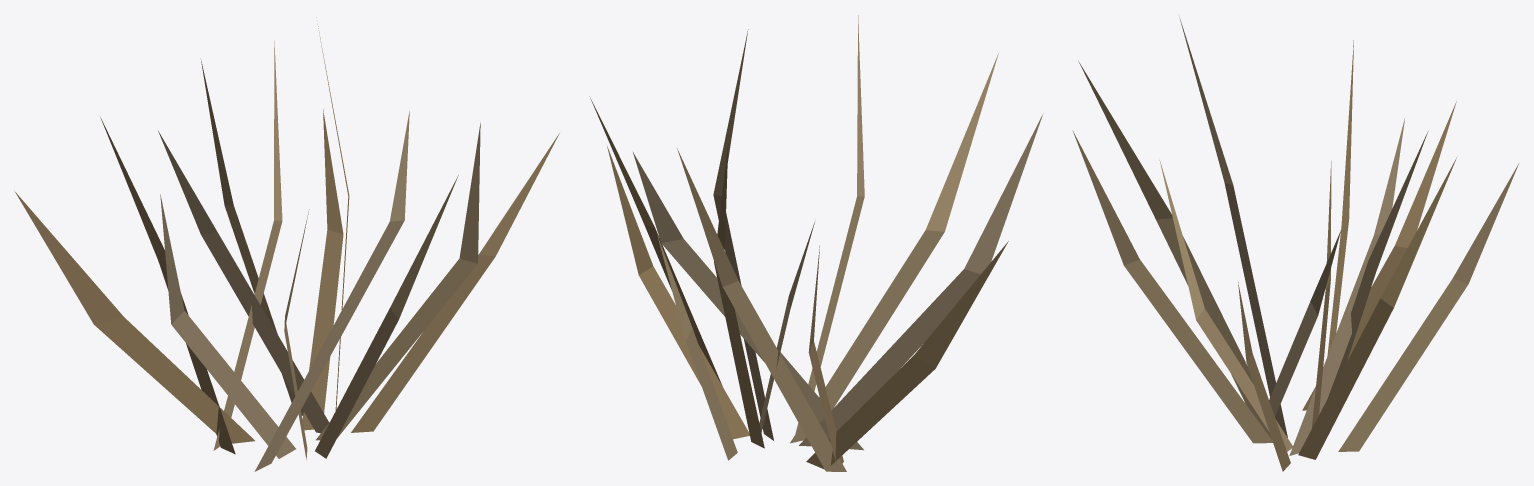
The model's file is Dead_Bush_b_05.fbx.
The picture shows the model from 3 angles, left to right: view 1: azimuth 30°, elevation 25°; view 2: azimuth 150°, elevation 25°; view 3: azimuth 270°, elevation 25°; orthographic projection. The views are drawn at different scales.
Visible parts, largest first — view 1: Dead_Bush_b_05; view 2: Dead_Bush_b_05; view 3: Dead_Bush_b_05.
Part boxes in pixels (bbox=[...]): Dead_Bush_b_05: bbox=[14, 17, 559, 471]; Dead_Bush_b_05: bbox=[589, 15, 1043, 471]; Dead_Bush_b_05: bbox=[1072, 17, 1518, 471].
Size of the model in its own units: 0.8558 by 0.5853 by 0.705.
